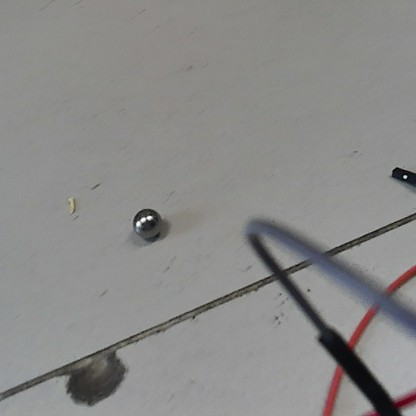ironball: (130, 205, 164, 239)
